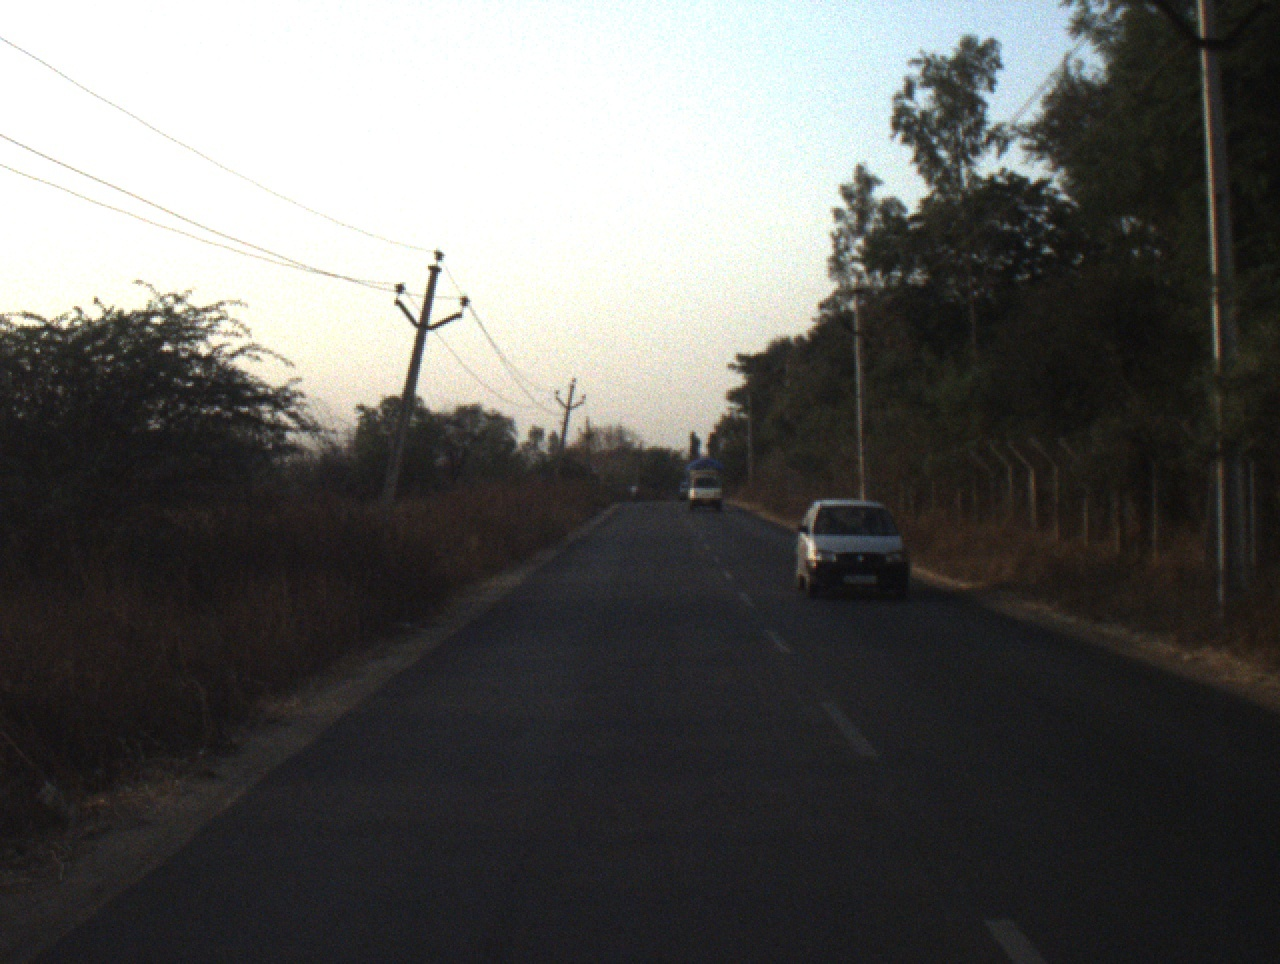car: (790, 494, 910, 604), (678, 480, 690, 499)
motorcycle: (630, 493, 638, 501)
rider: (628, 483, 638, 497)
truck: (683, 457, 728, 510)
